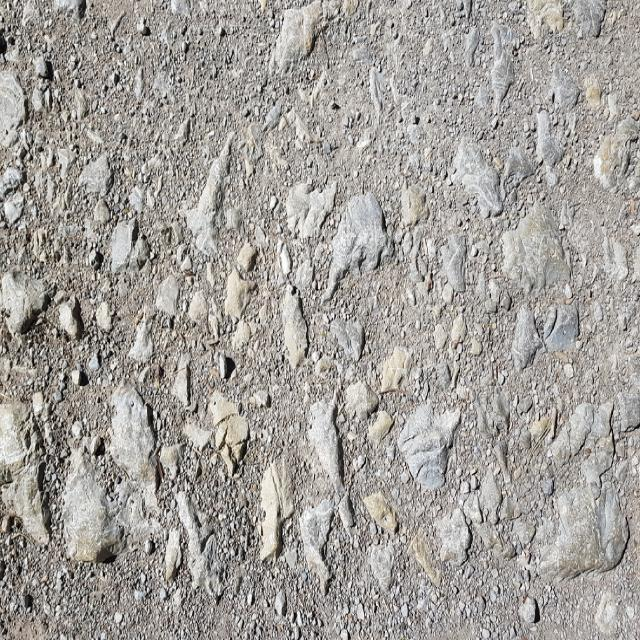stone: (538, 482, 629, 580), (324, 194, 390, 299), (62, 453, 119, 561), (502, 203, 570, 293), (398, 405, 460, 486), (110, 385, 156, 490), (307, 401, 344, 496), (2, 269, 50, 333), (0, 401, 40, 471), (0, 72, 27, 130)
